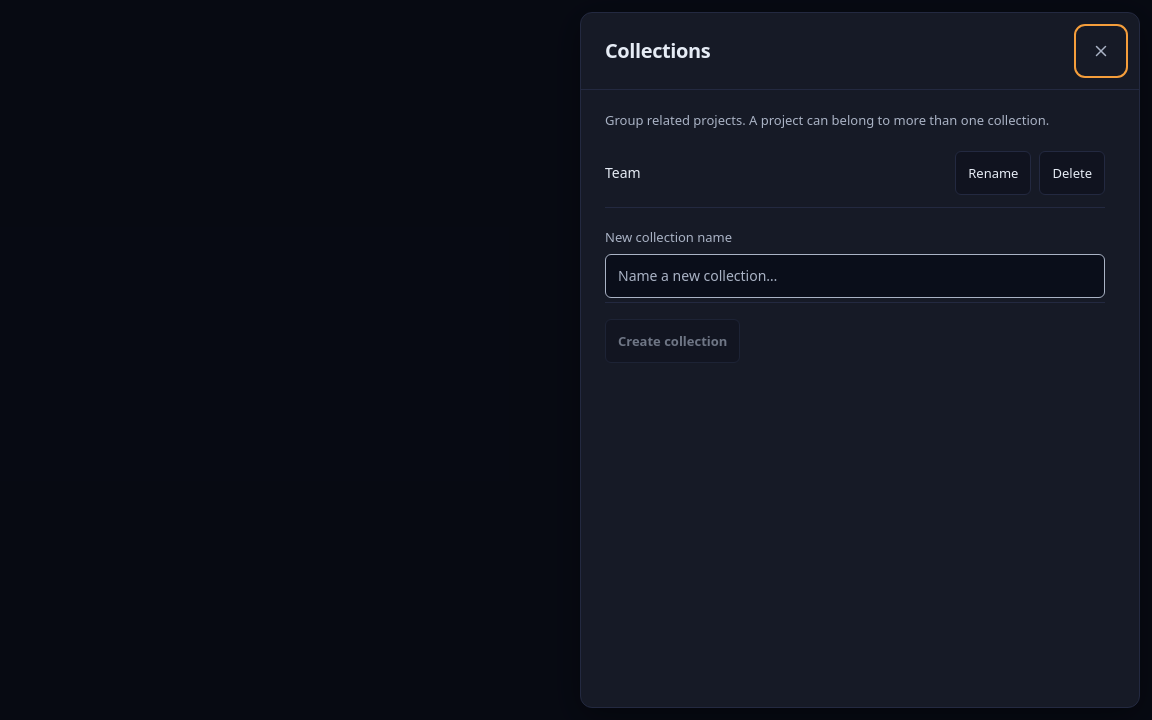
renames a collection in its own row and transfers focus to its editor
The width and height of the screenshot is (1152, 720).
Click the button with aria-label "Rename Team" at (993, 173), box [955,151,1031,195]
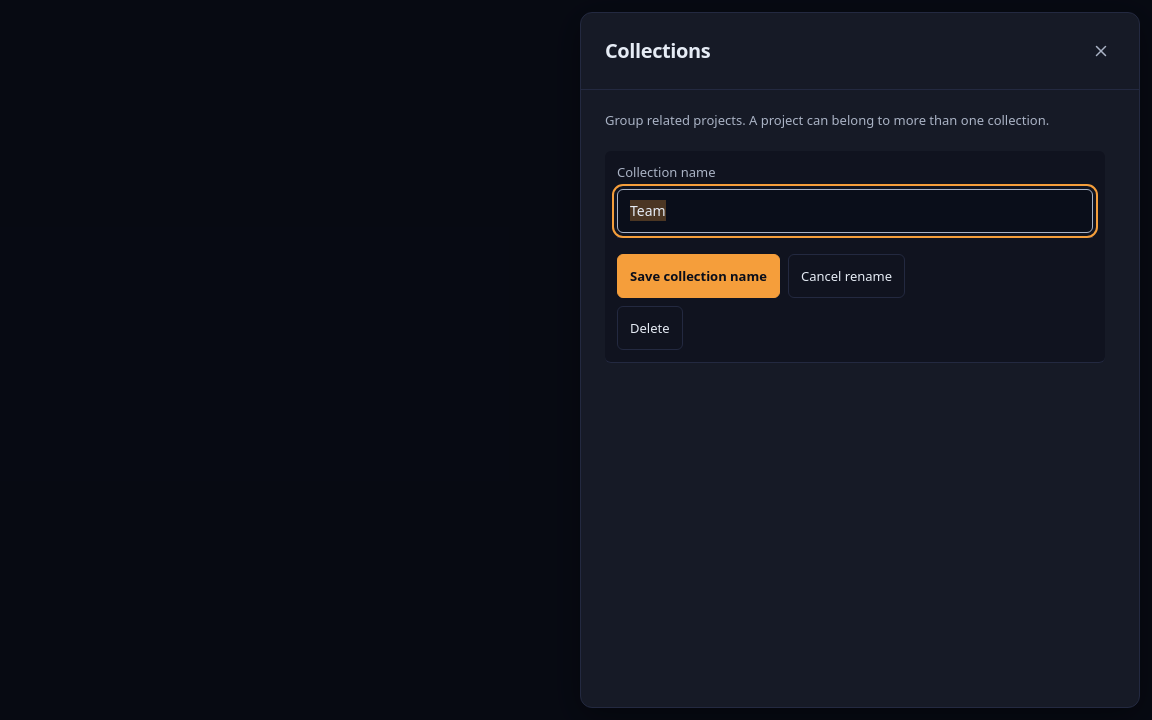
Result: the label labelled "New collection name" is gone
